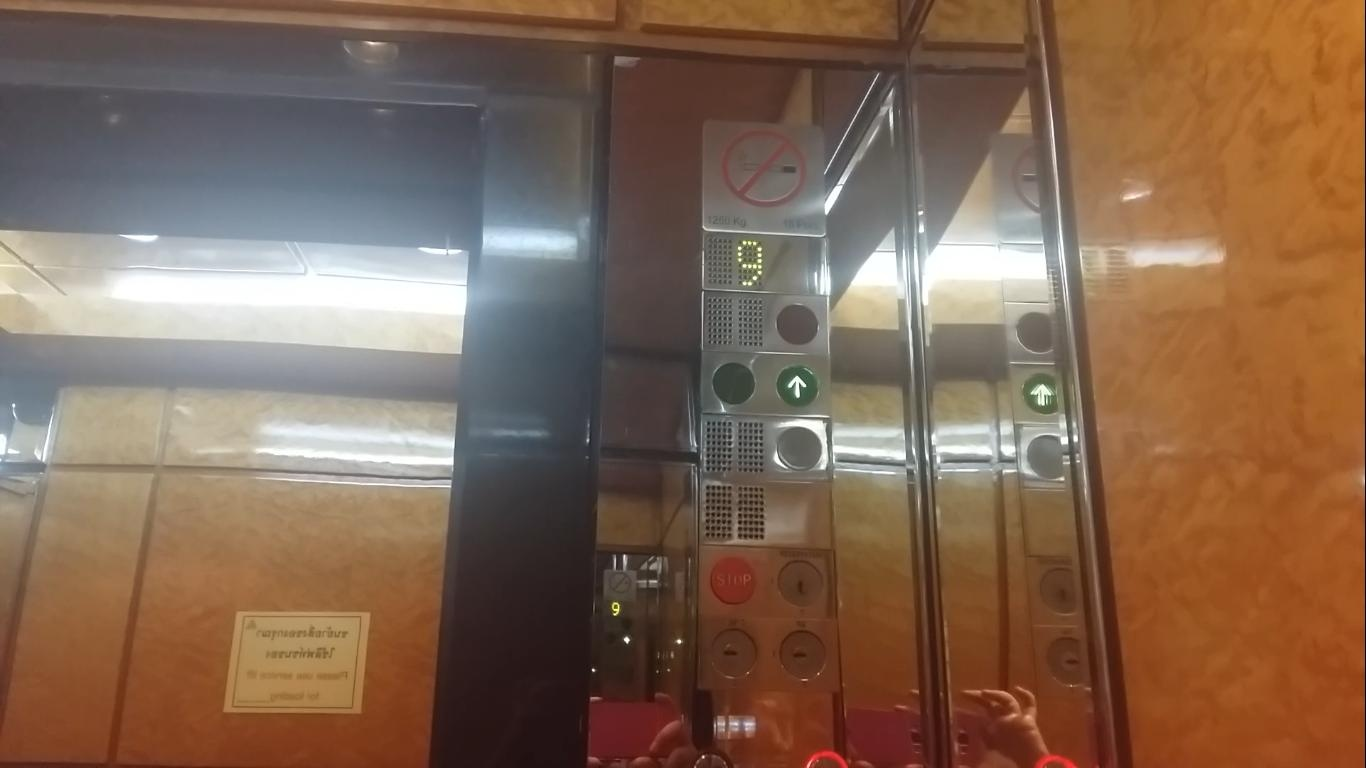empty: (775, 423, 824, 472), (711, 361, 756, 407), (774, 302, 820, 346)
keyhole: (776, 627, 829, 683), (707, 626, 760, 681), (774, 556, 827, 607)
text_stop: (709, 554, 759, 606)
up: (774, 363, 820, 409)
